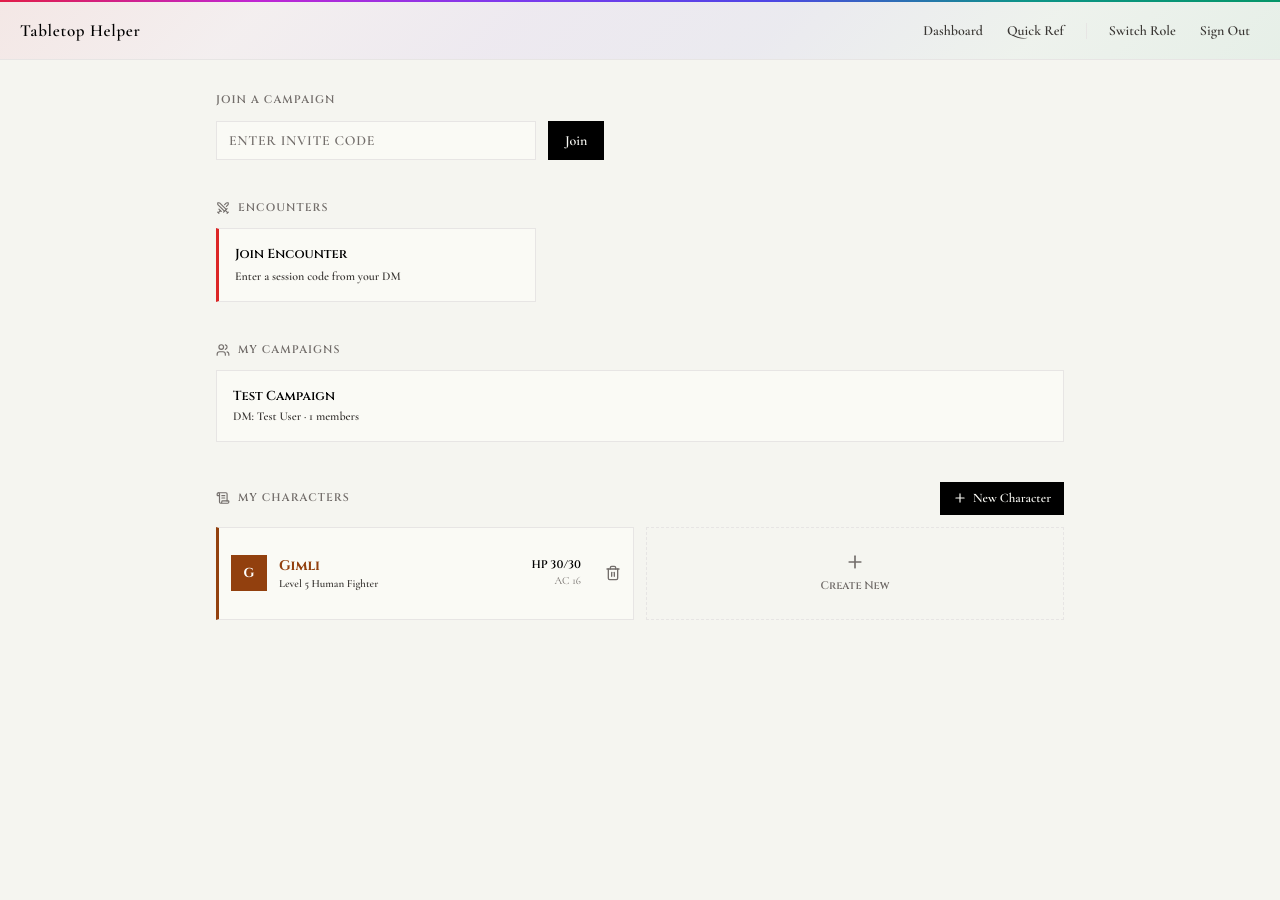
Test case: PlayerDashboard › opens delete confirmation modal
Check: the heading "Gimli" is shown, box [279,556,320,574]
Step 1. Click the button titled "Delete character" → (613, 573), box [593,528,633,618]
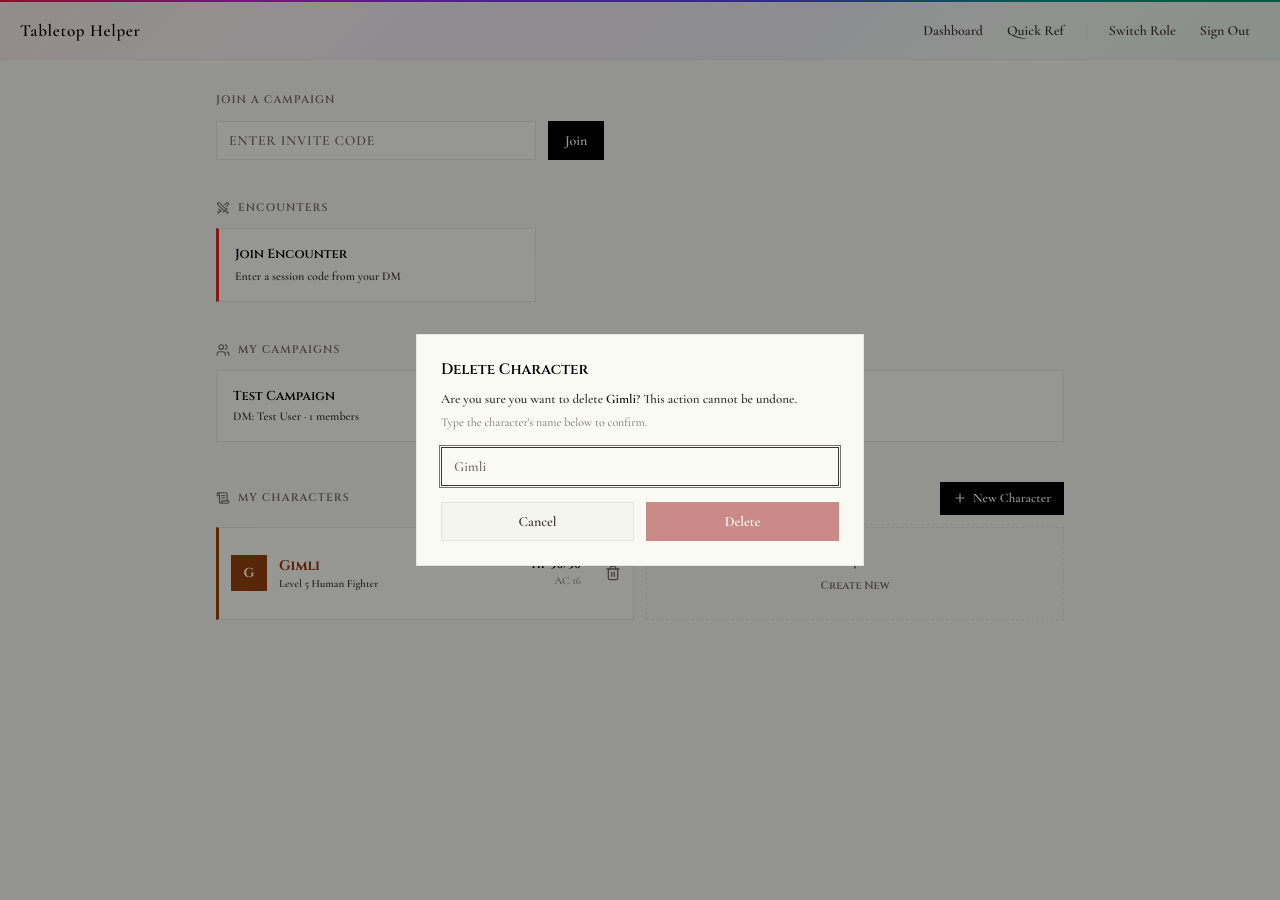
Check: the dialog is shown, box [416,334,864,566]
Check: the text "Are you sure you want to delete" is shown, box [441,390,606,406]
